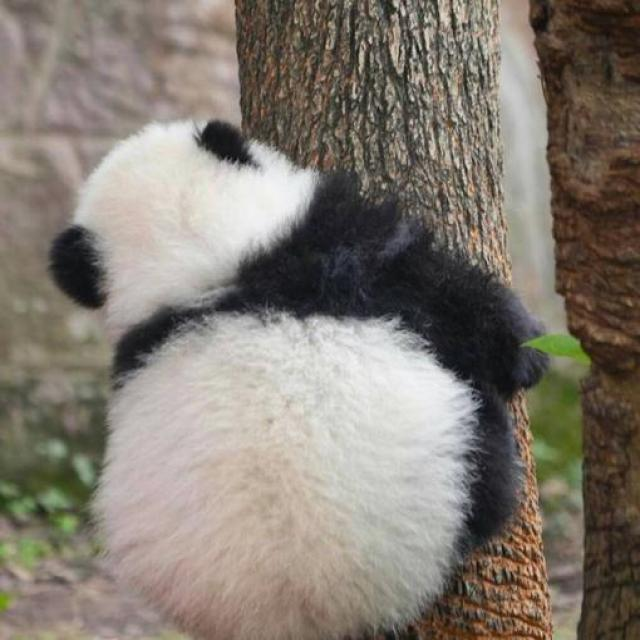panda: (26, 102, 560, 640)
